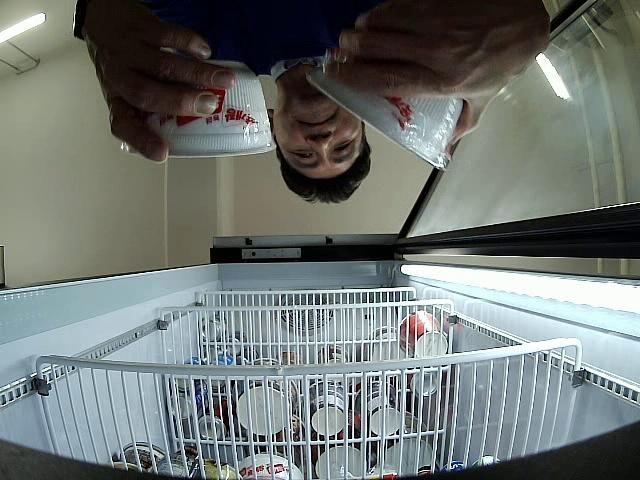09_yukGaeJang: (122, 59, 278, 156), (310, 74, 460, 169)
